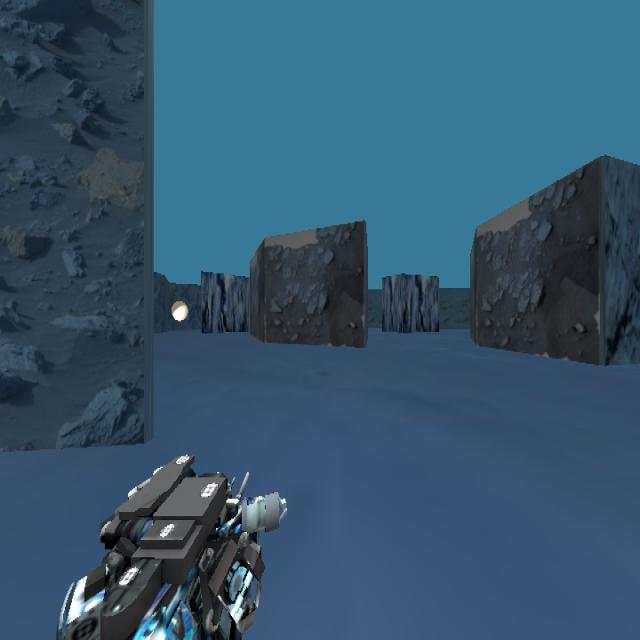Circle: (170, 299, 188, 321)
